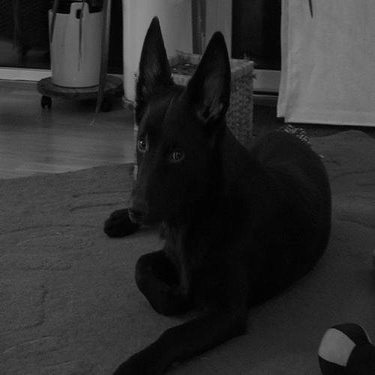dog: (92, 7, 339, 371)
